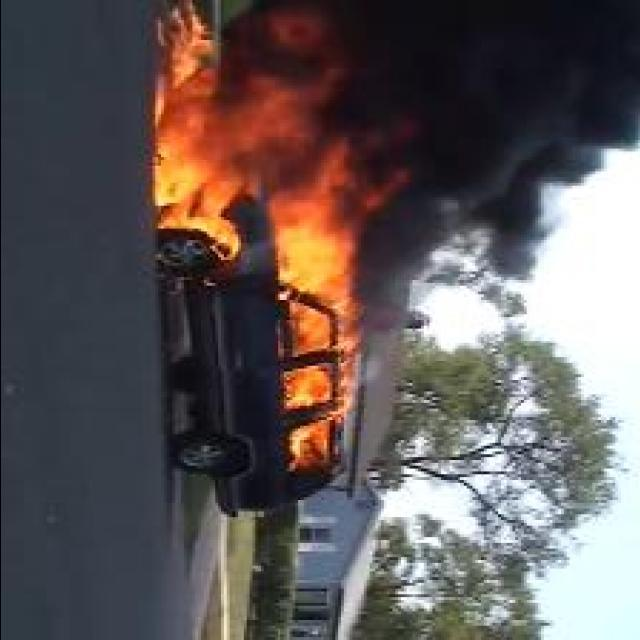Fire: (153, 5, 344, 262), (270, 138, 404, 472)
